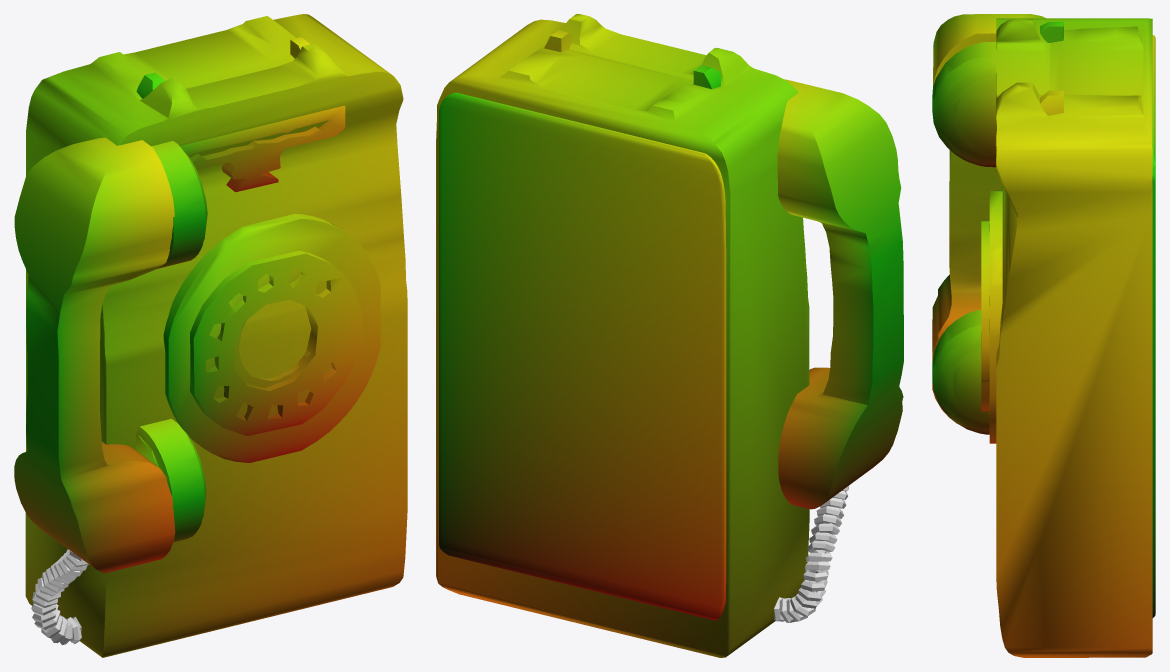
File: wallphone_rotary.glb
3 views of the same model, side by side, from view 1: azimuth 30°, elevation 25°; view 2: azimuth 150°, elevation 25°; view 3: azimuth 270°, elevation 25° (orthographic). The views are drawn at different scales.
Parts seen in each view (by area): view 1: wallphone_rotary; view 2: wallphone_rotary; view 3: wallphone_rotary.
Boxes of the visible parts, x1,y1,x2,y2 form: wallphone_rotary: [14, 14, 407, 657]; wallphone_rotary: [436, 14, 903, 657]; wallphone_rotary: [932, 14, 1155, 657].
Bounding box in the file's own units: 0.1852 × 0.266 × 0.0992.
